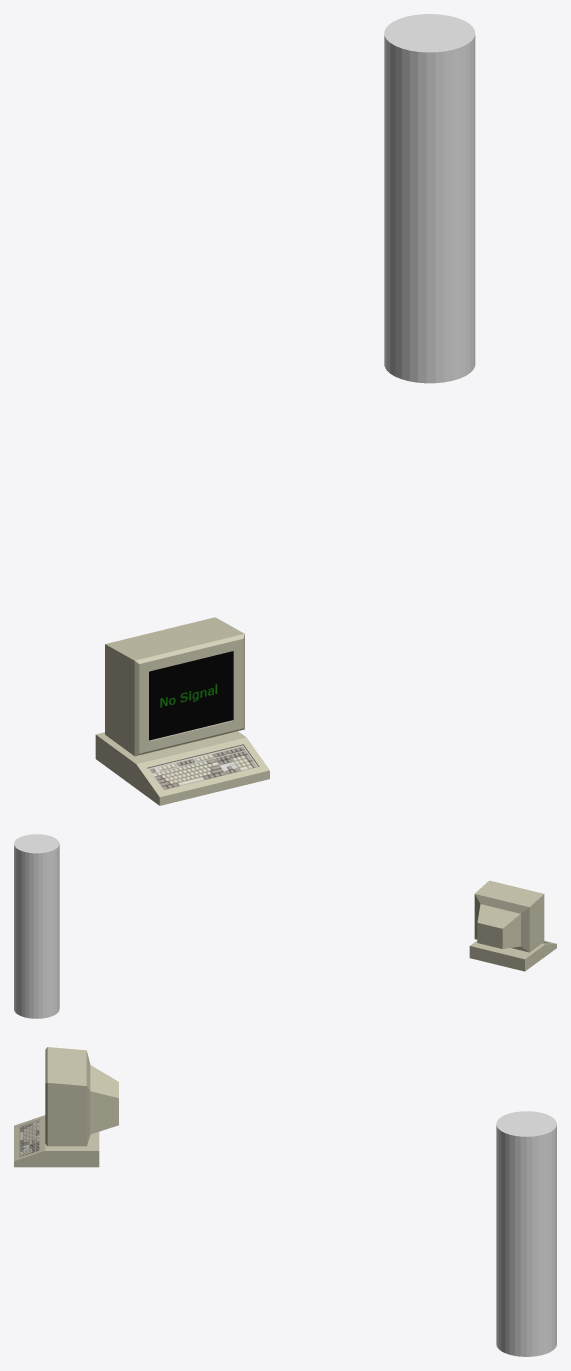
File: monitor.glb
The picture shows the model from 3 angles, top to bottom: view 1: azimuth 30°, elevation 25°; view 2: azimuth 150°, elevation 25°; view 3: azimuth 270°, elevation 25°; orthographic projection. The views are drawn at different scales.
Visible parts, largest first — view 1: Ref-noimp, Monitor; view 2: Ref-noimp, Monitor; view 3: Ref-noimp, Monitor.
Part boxes in pixels (left/top/right/bottom): Ref-noimp: left=384, top=14, right=475, bottom=383; Monitor: left=95, top=617, right=269, bottom=805; Ref-noimp: left=14, top=834, right=59, bottom=1018; Monitor: left=469, top=880, right=556, bottom=971; Ref-noimp: left=496, top=1111, right=556, bottom=1356; Monitor: left=14, top=1047, right=118, bottom=1167.
Size of the model in its own units: 4.39 by 2 by 4.47.
3 materials, 2 textured.
